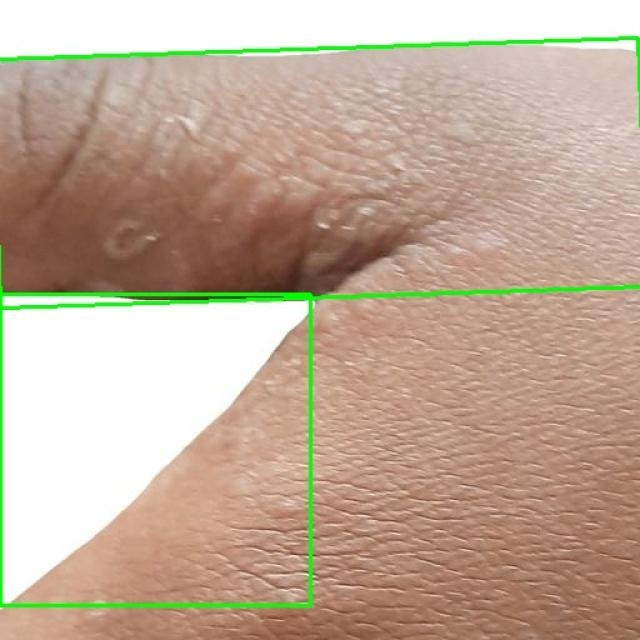Scabies: (0, 38, 640, 308), (0, 294, 311, 605)
